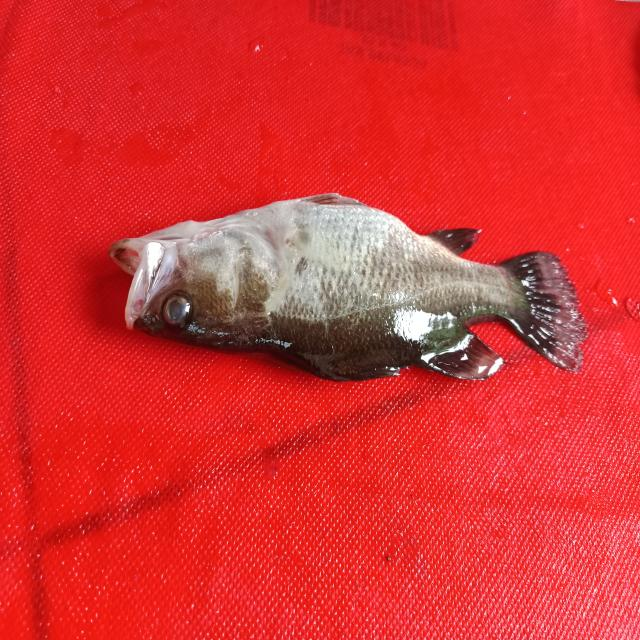ikan: (93, 172, 602, 404)
